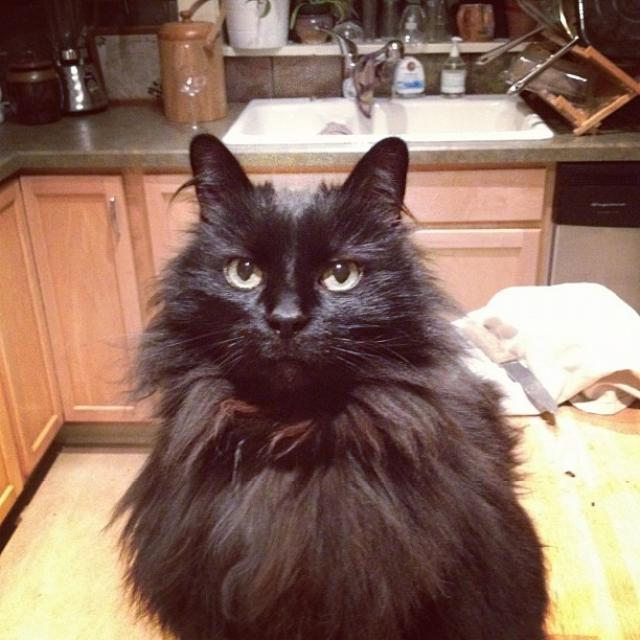cats: (100, 127, 560, 638)
